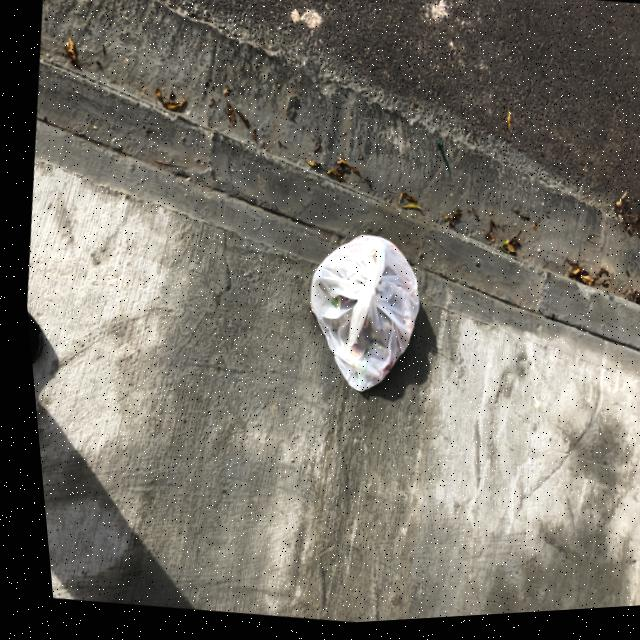Organic Waste -White Bag-: (280, 222, 439, 419)
